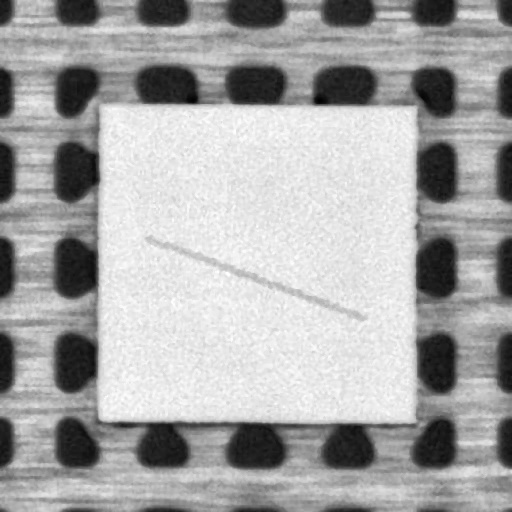DIE_CRACK: (148, 238, 364, 318)
